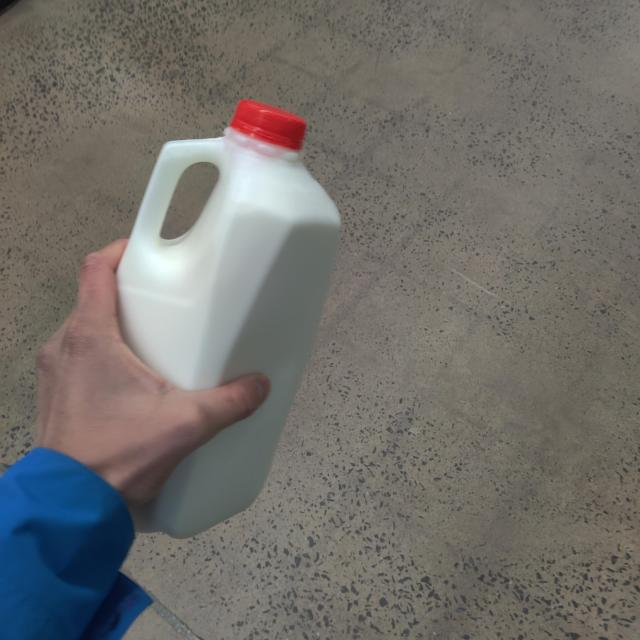Milk: (95, 96, 352, 525)
